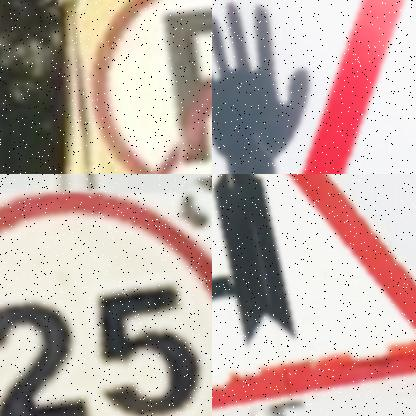Cross Roads: (212, 174, 416, 416)
No Parking: (64, 0, 212, 174)
Speed Limit -25 kmph-: (0, 194, 212, 416)
Stop: (212, 0, 416, 174), (212, 0, 299, 174)
